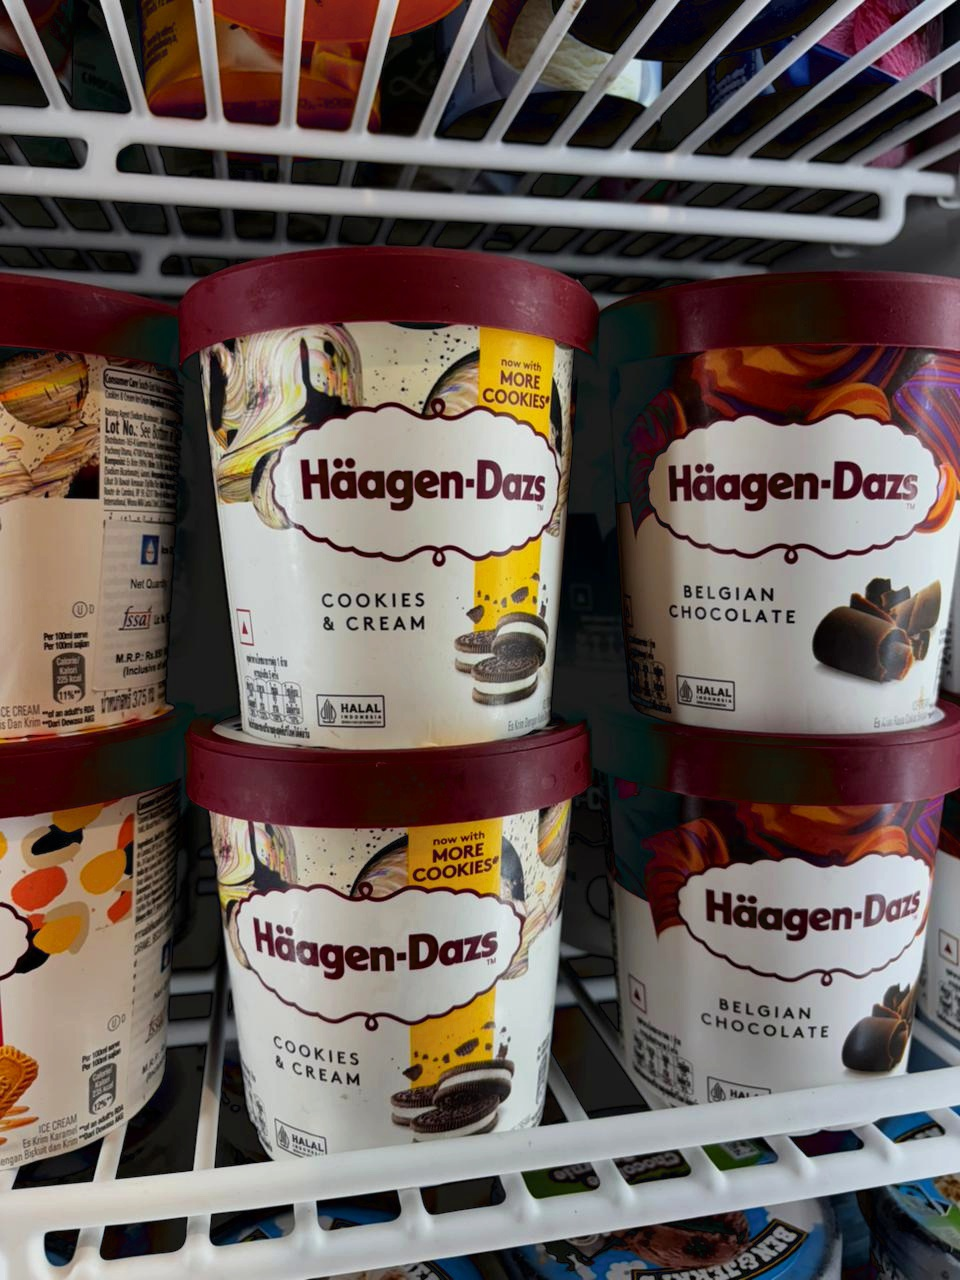Haagen-Dazs IceCream Tub: (158, 249, 583, 753), (596, 257, 959, 747), (189, 726, 593, 1163), (612, 719, 960, 1108)
